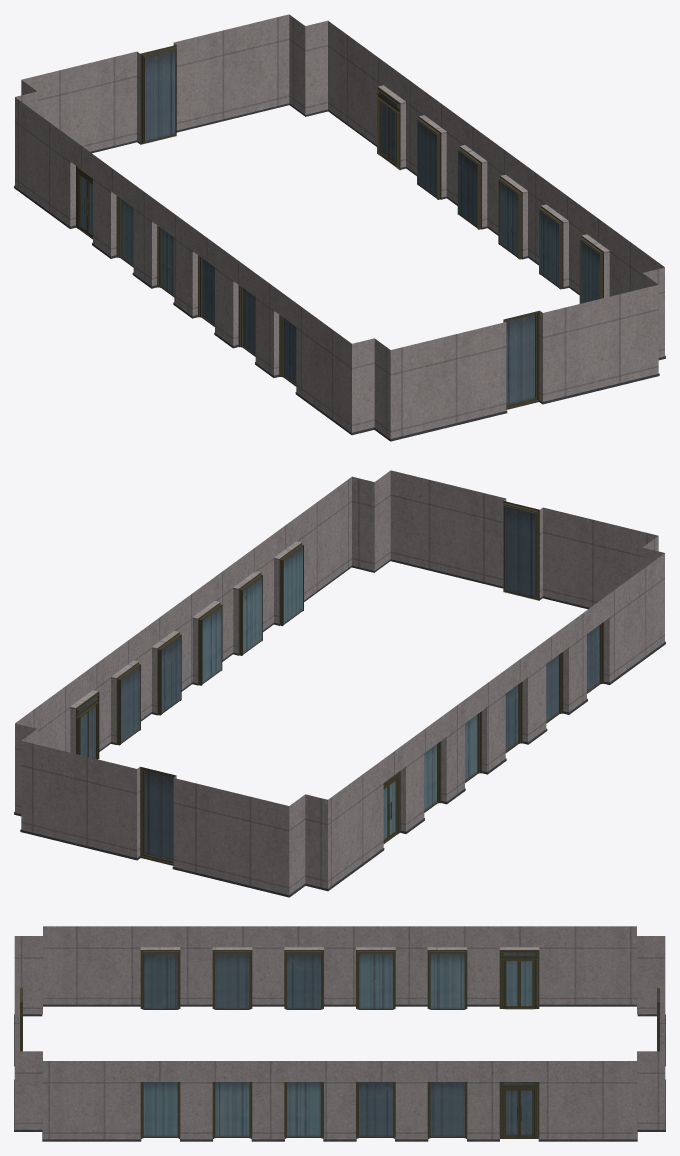
Rendered from jctBld24_12E_btm.fbx.
The picture shows the model from 3 angles, top to bottom: view 1: azimuth 30°, elevation 25°; view 2: azimuth 150°, elevation 25°; view 3: azimuth 270°, elevation 25°; orthographic projection. The views are drawn at different scales.
Parts seen in each view (by area): view 1: jctBld24_12E_btm_LOD0; view 2: jctBld24_12E_btm_LOD0; view 3: jctBld24_12E_btm_LOD0.
Part boxes in pixels (bbox=[...]): jctBld24_12E_btm_LOD0: bbox=[14, 14, 665, 441]; jctBld24_12E_btm_LOD0: bbox=[14, 470, 665, 897]; jctBld24_12E_btm_LOD0: bbox=[14, 926, 665, 1141].
Size of the model in its own units: 1154 by 320 by 2354.
